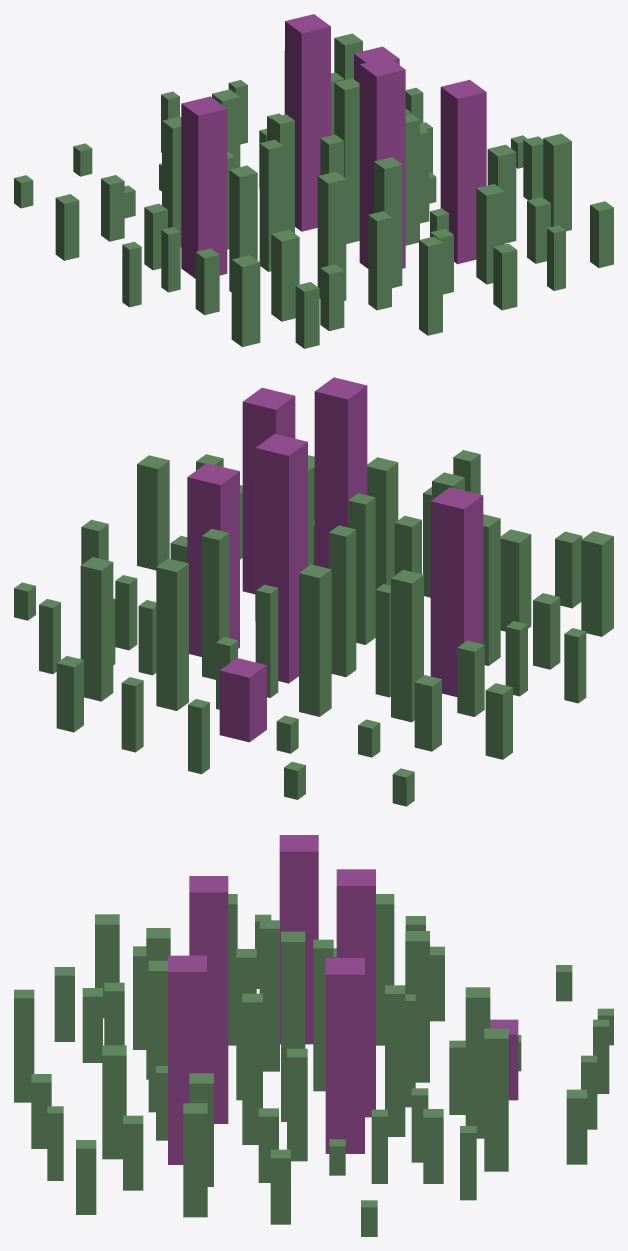
File: PlantB_003.fbx
3 renders of one model, top to bottom at view 1: azimuth 30°, elevation 25°; view 2: azimuth 150°, elevation 25°; view 3: azimuth 270°, elevation 25°, orthographic. The views are drawn at different scales.
Visible parts, largest first — view 1: PlantB_003; view 2: PlantB_003; view 3: PlantB_003.
Boxes of the visible parts, bbox=[...] form: PlantB_003: bbox=[14, 14, 613, 348]; PlantB_003: bbox=[14, 377, 613, 806]; PlantB_003: bbox=[14, 835, 613, 1236].
Bounding box in the file's own units: 0.9808 × 0.4162 × 0.977.
